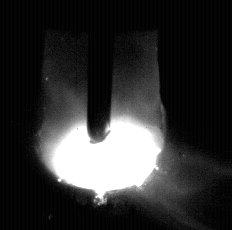arame: (88, 0, 111, 144)
poca: (39, 0, 163, 230)
